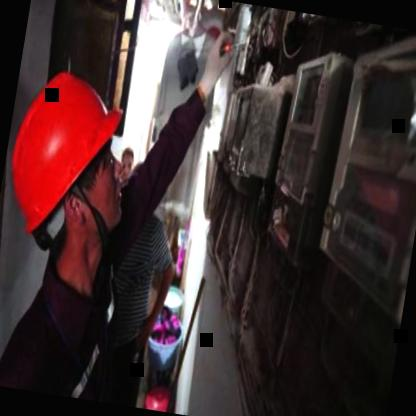helmet: (0, 48, 153, 314)
